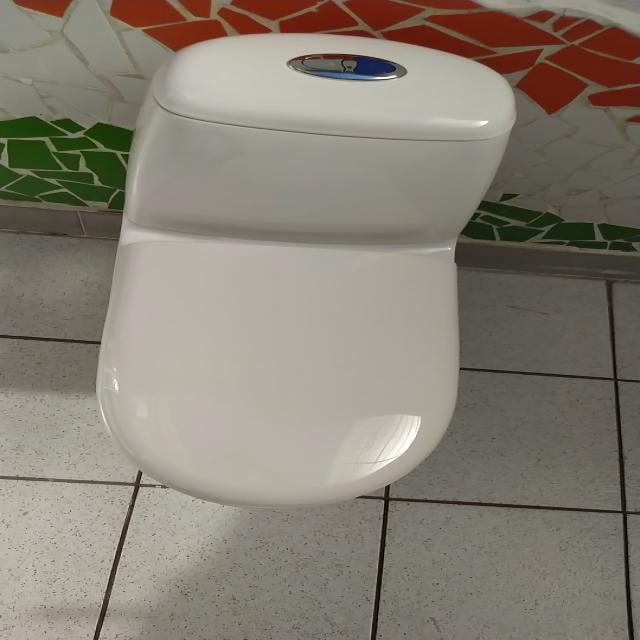toilet: (95, 32, 517, 509)
